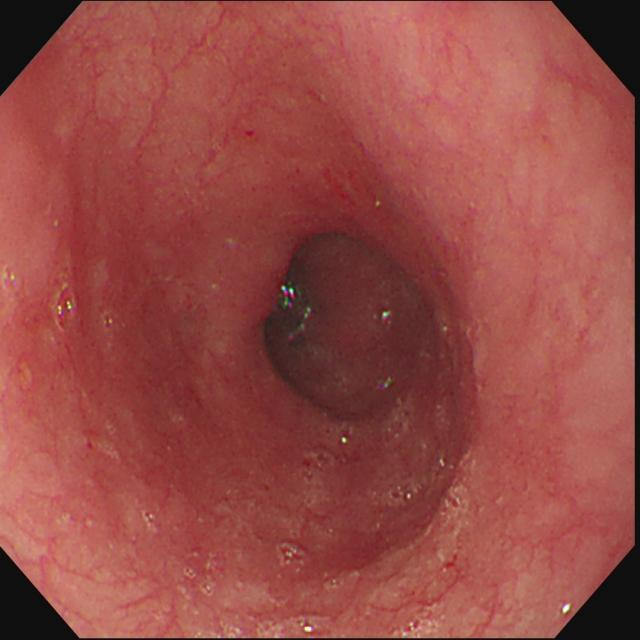E: (257, 228, 423, 418)
T: (260, 607, 337, 638), (274, 279, 313, 338), (373, 477, 430, 509), (275, 536, 311, 573), (53, 282, 78, 335), (2, 264, 22, 297)
